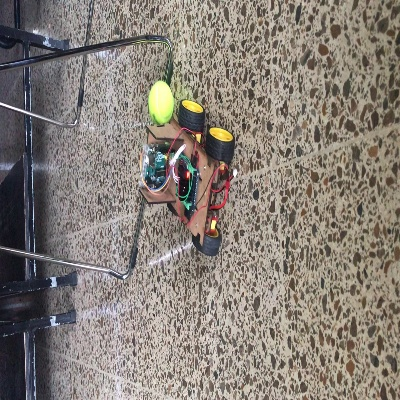Ball: (147, 80, 174, 123)
Robot: (138, 100, 234, 255)
